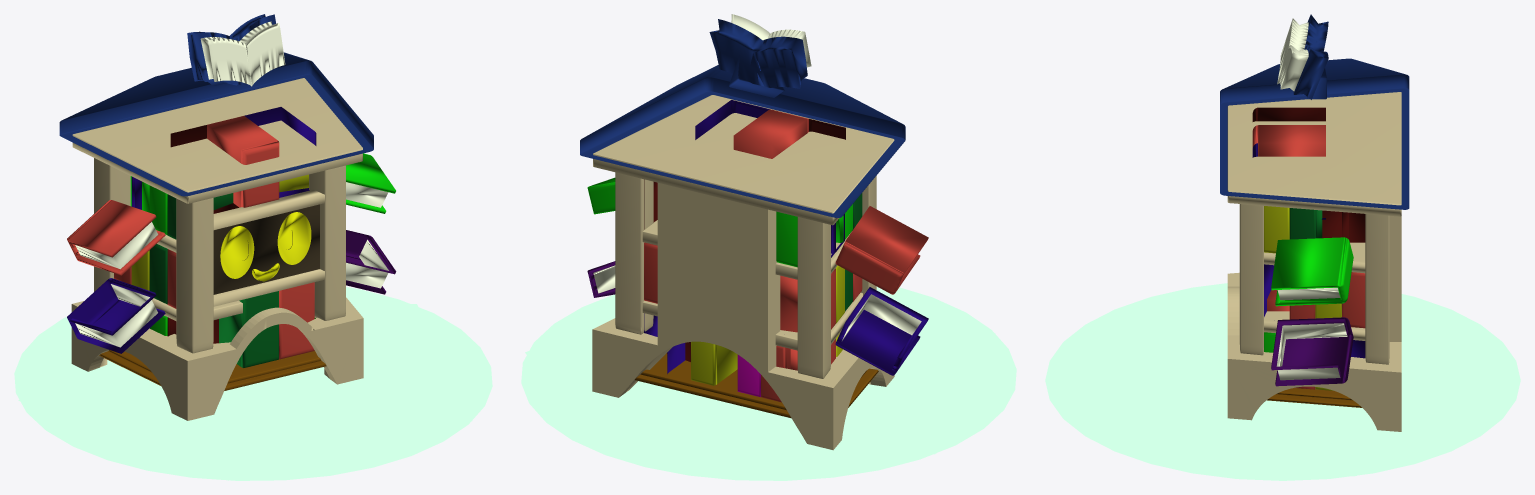
The model's file is toshokan-heal.glb.
3 views of the same model, side by side, from view 1: azimuth 30°, elevation 25°; view 2: azimuth 150°, elevation 25°; view 3: azimuth 270°, elevation 25° (orthographic). The views are drawn at different scales.
Parts seen in each view (by area): view 1: Cube.018, 円.002, 円, 円.004, 円.007, 円.005, 円.006, 円.008, 円.001; view 2: Cube.018, 円, 円.002, 円.008, 円.003, 円.007, 円.004, 円.006; view 3: Cube.018, 円, 円.002, 円.008, 円.001, 円.004, 円.005, 円.006, 円.003.
Boxes of the visible parts, <box> form: Cube.018: <box>59,14,396,420</box>; 円.002: <box>31,302,471,480</box>; 円: <box>14,287,492,480</box>; 円.004: <box>184,438,281,478</box>; 円.007: <box>18,377,115,417</box>; 円.005: <box>371,392,467,432</box>; 円.006: <box>353,301,429,341</box>; 円.008: <box>278,434,420,470</box>; 円.001: <box>107,340,399,440</box>; Cube.018: <box>580,14,928,450</box>; 円: <box>521,286,1016,480</box>; 円.002: <box>526,333,995,466</box>; 円.008: <box>593,287,944,468</box>; 円.003: <box>624,424,724,465</box>; 円.007: <box>848,414,948,456</box>; 円.004: <box>909,320,991,362</box>; 円.006: <box>525,334,592,376</box>; Cube.018: <box>1220,14,1409,431</box>; 円: <box>1045,283,1520,480</box>; 円.002: <box>1090,303,1518,475</box>; 円.008: <box>1047,332,1517,440</box>; 円.001: <box>1138,335,1425,441</box>; 円.004: <box>1093,314,1185,354</box>; 円.005: <box>1093,404,1185,444</box>; 円.006: <box>1296,435,1388,476</box>; 円.003: <box>1425,358,1517,398</box>.
Size of the model in its own units: 2.58 by 2.06 by 2.58.
